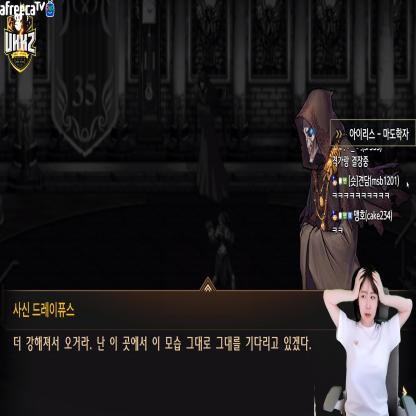streamer: (323, 267, 413, 416)
